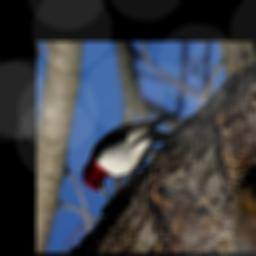Woodpecker: (76, 113, 180, 205)
